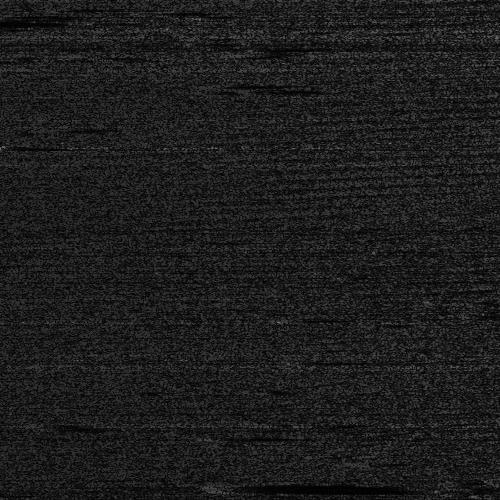rock: (171, 481, 234, 490), (203, 82, 244, 85)
shadow: (203, 481, 375, 490), (224, 82, 292, 85)
